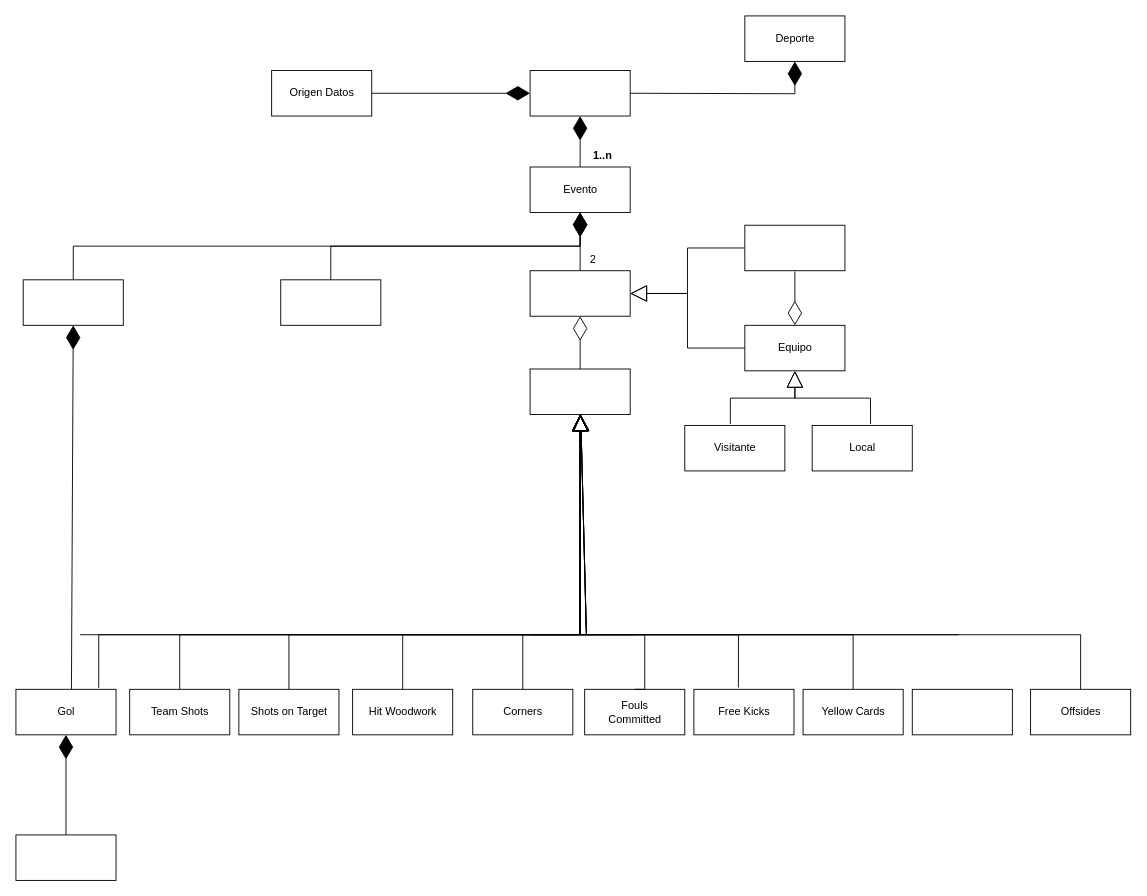
Some shapes in this 1147 by 896 pixel diagram are drawn without their labels. The shapes that lost their labels are listed below. From the top down, each one's centre as x and y in pixels, then its label:
At (579,93): "Competición".
At (794,247): "Jugador".
At (72,302): "Resultado".
At (330,302): "Fecha/Hora".
At (579,293): "Participante".
At (579,391): "Suceso".
At (961,711): "Red Cards".
At (65,857): "Tiempo".
